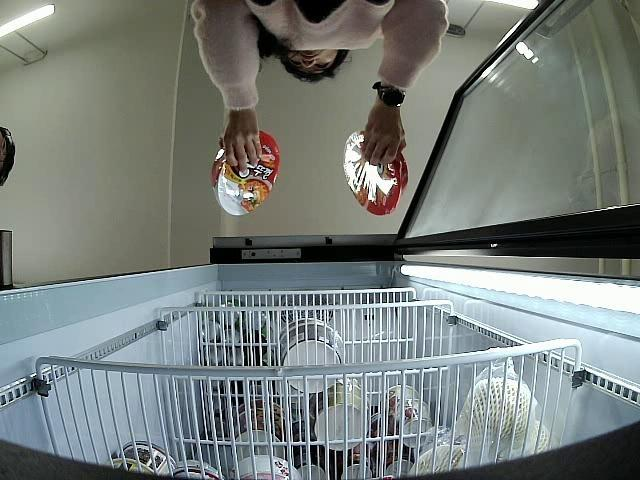10_wangTtukkeong: (210, 131, 280, 216), (345, 132, 408, 216)
